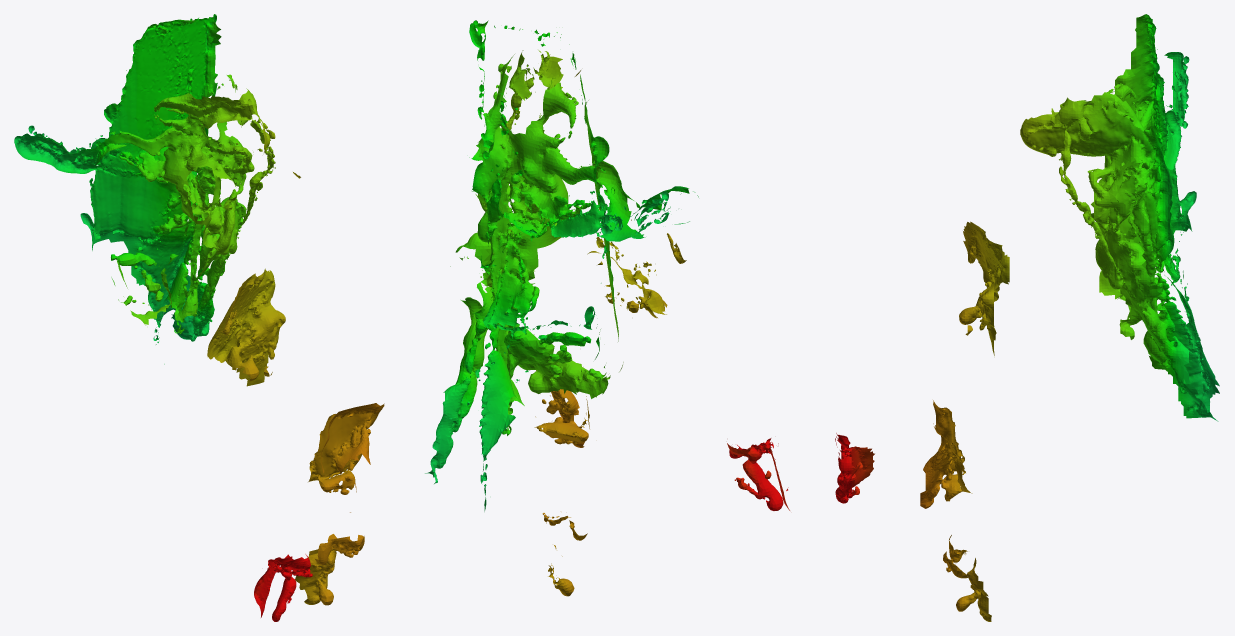
3 renders of one model, left to right at view 1: azimuth 30°, elevation 25°; view 2: azimuth 150°, elevation 25°; view 3: azimuth 270°, elevation 25°, orthographic. The views are drawn at different scales.
Parts seen in each view (by area): view 1: geometry_0; view 2: geometry_0; view 3: geometry_0.
Part boxes in pixels (x1,y1,x2,y2): geometry_0: (14,14,384,621); geometry_0: (425,20,789,596); geometry_0: (835,14,1219,621).
Bounding box in the file's own units: 1.27 × 2.58 × 1.59.
